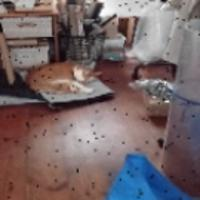asleep: (24, 61, 103, 96)
